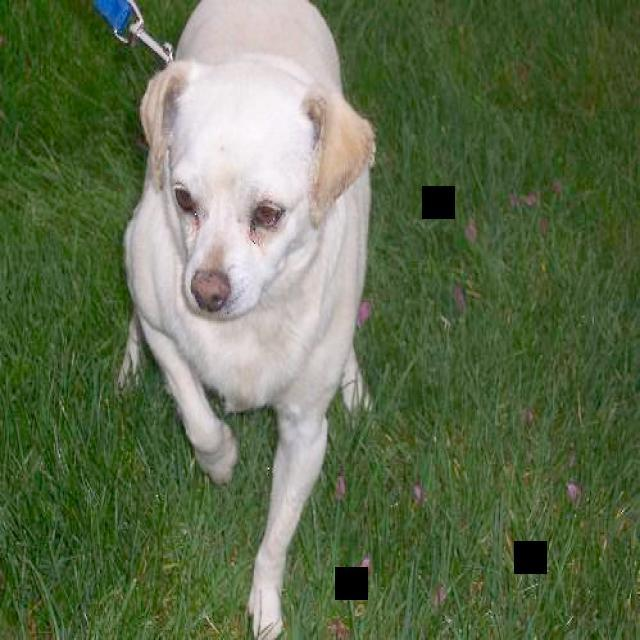adult_dog: (114, 1, 376, 640)
